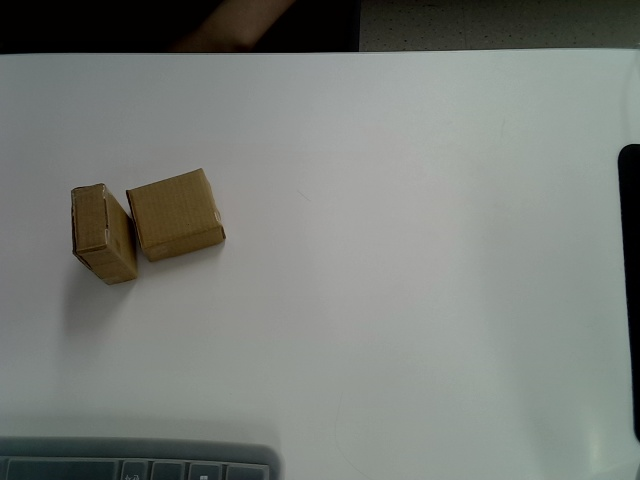normal: (127, 167, 226, 263), (70, 183, 140, 285)
